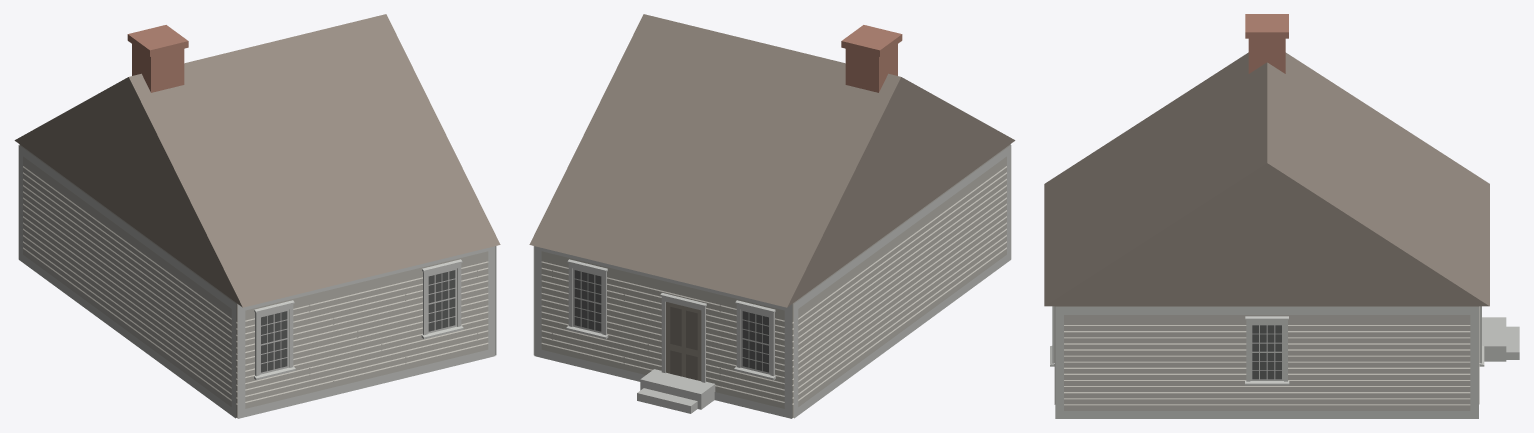
The model's file is recon_1835_south_d5_007__inferred_1835.glb.
The picture shows the model from 3 angles, left to right: view 1: azimuth 30°, elevation 25°; view 2: azimuth 150°, elevation 25°; view 3: azimuth 270°, elevation 25°; orthographic projection. The views are drawn at different scales.
Visible parts, largest first — view 1: recon_1835_south_d5_007__inferred_1835; view 2: recon_1835_south_d5_007__inferred_1835; view 3: recon_1835_south_d5_007__inferred_1835.
Part boxes in pixels (x1,y1,x2,y2): recon_1835_south_d5_007__inferred_1835: (14, 14, 500, 418); recon_1835_south_d5_007__inferred_1835: (529, 14, 1015, 418); recon_1835_south_d5_007__inferred_1835: (1044, 14, 1519, 418).
Bounding box in the file's own units: 6.71 × 7.15 × 10.74.
